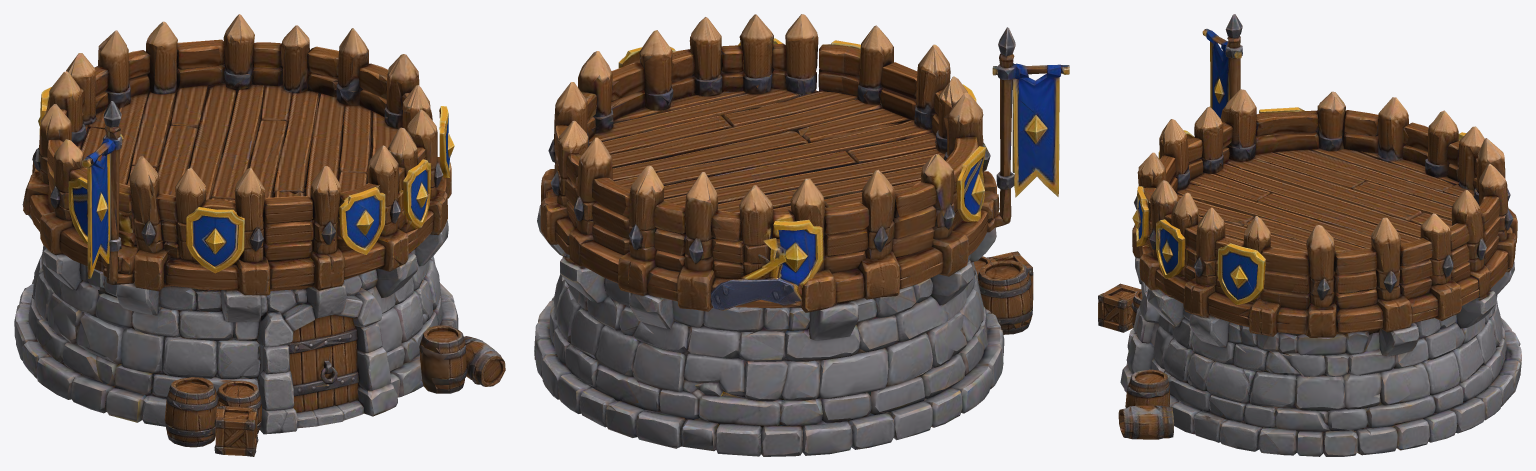
Rendered from outpost_fort.glb.
The picture shows the model from 3 angles, left to right: view 1: azimuth 30°, elevation 25°; view 2: azimuth 150°, elevation 25°; view 3: azimuth 270°, elevation 25°; orthographic projection. The views are drawn at different scales.
Size of the model in its own units: 1.89 by 1.4 by 1.89.
1 material, 1 textured.
